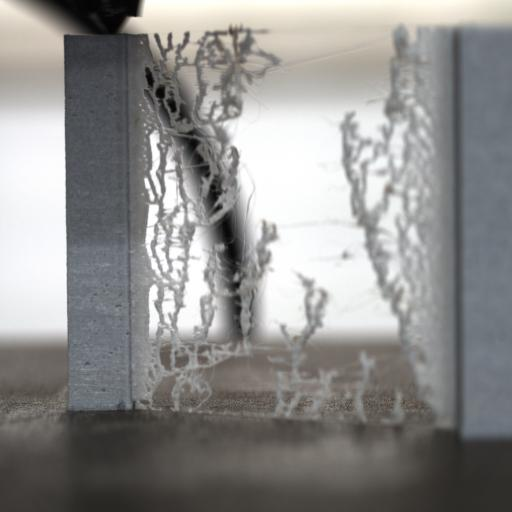stringing: (137, 24, 286, 405), (338, 22, 438, 410), (148, 190, 197, 359), (201, 20, 277, 124), (136, 59, 174, 219), (352, 350, 378, 426)
